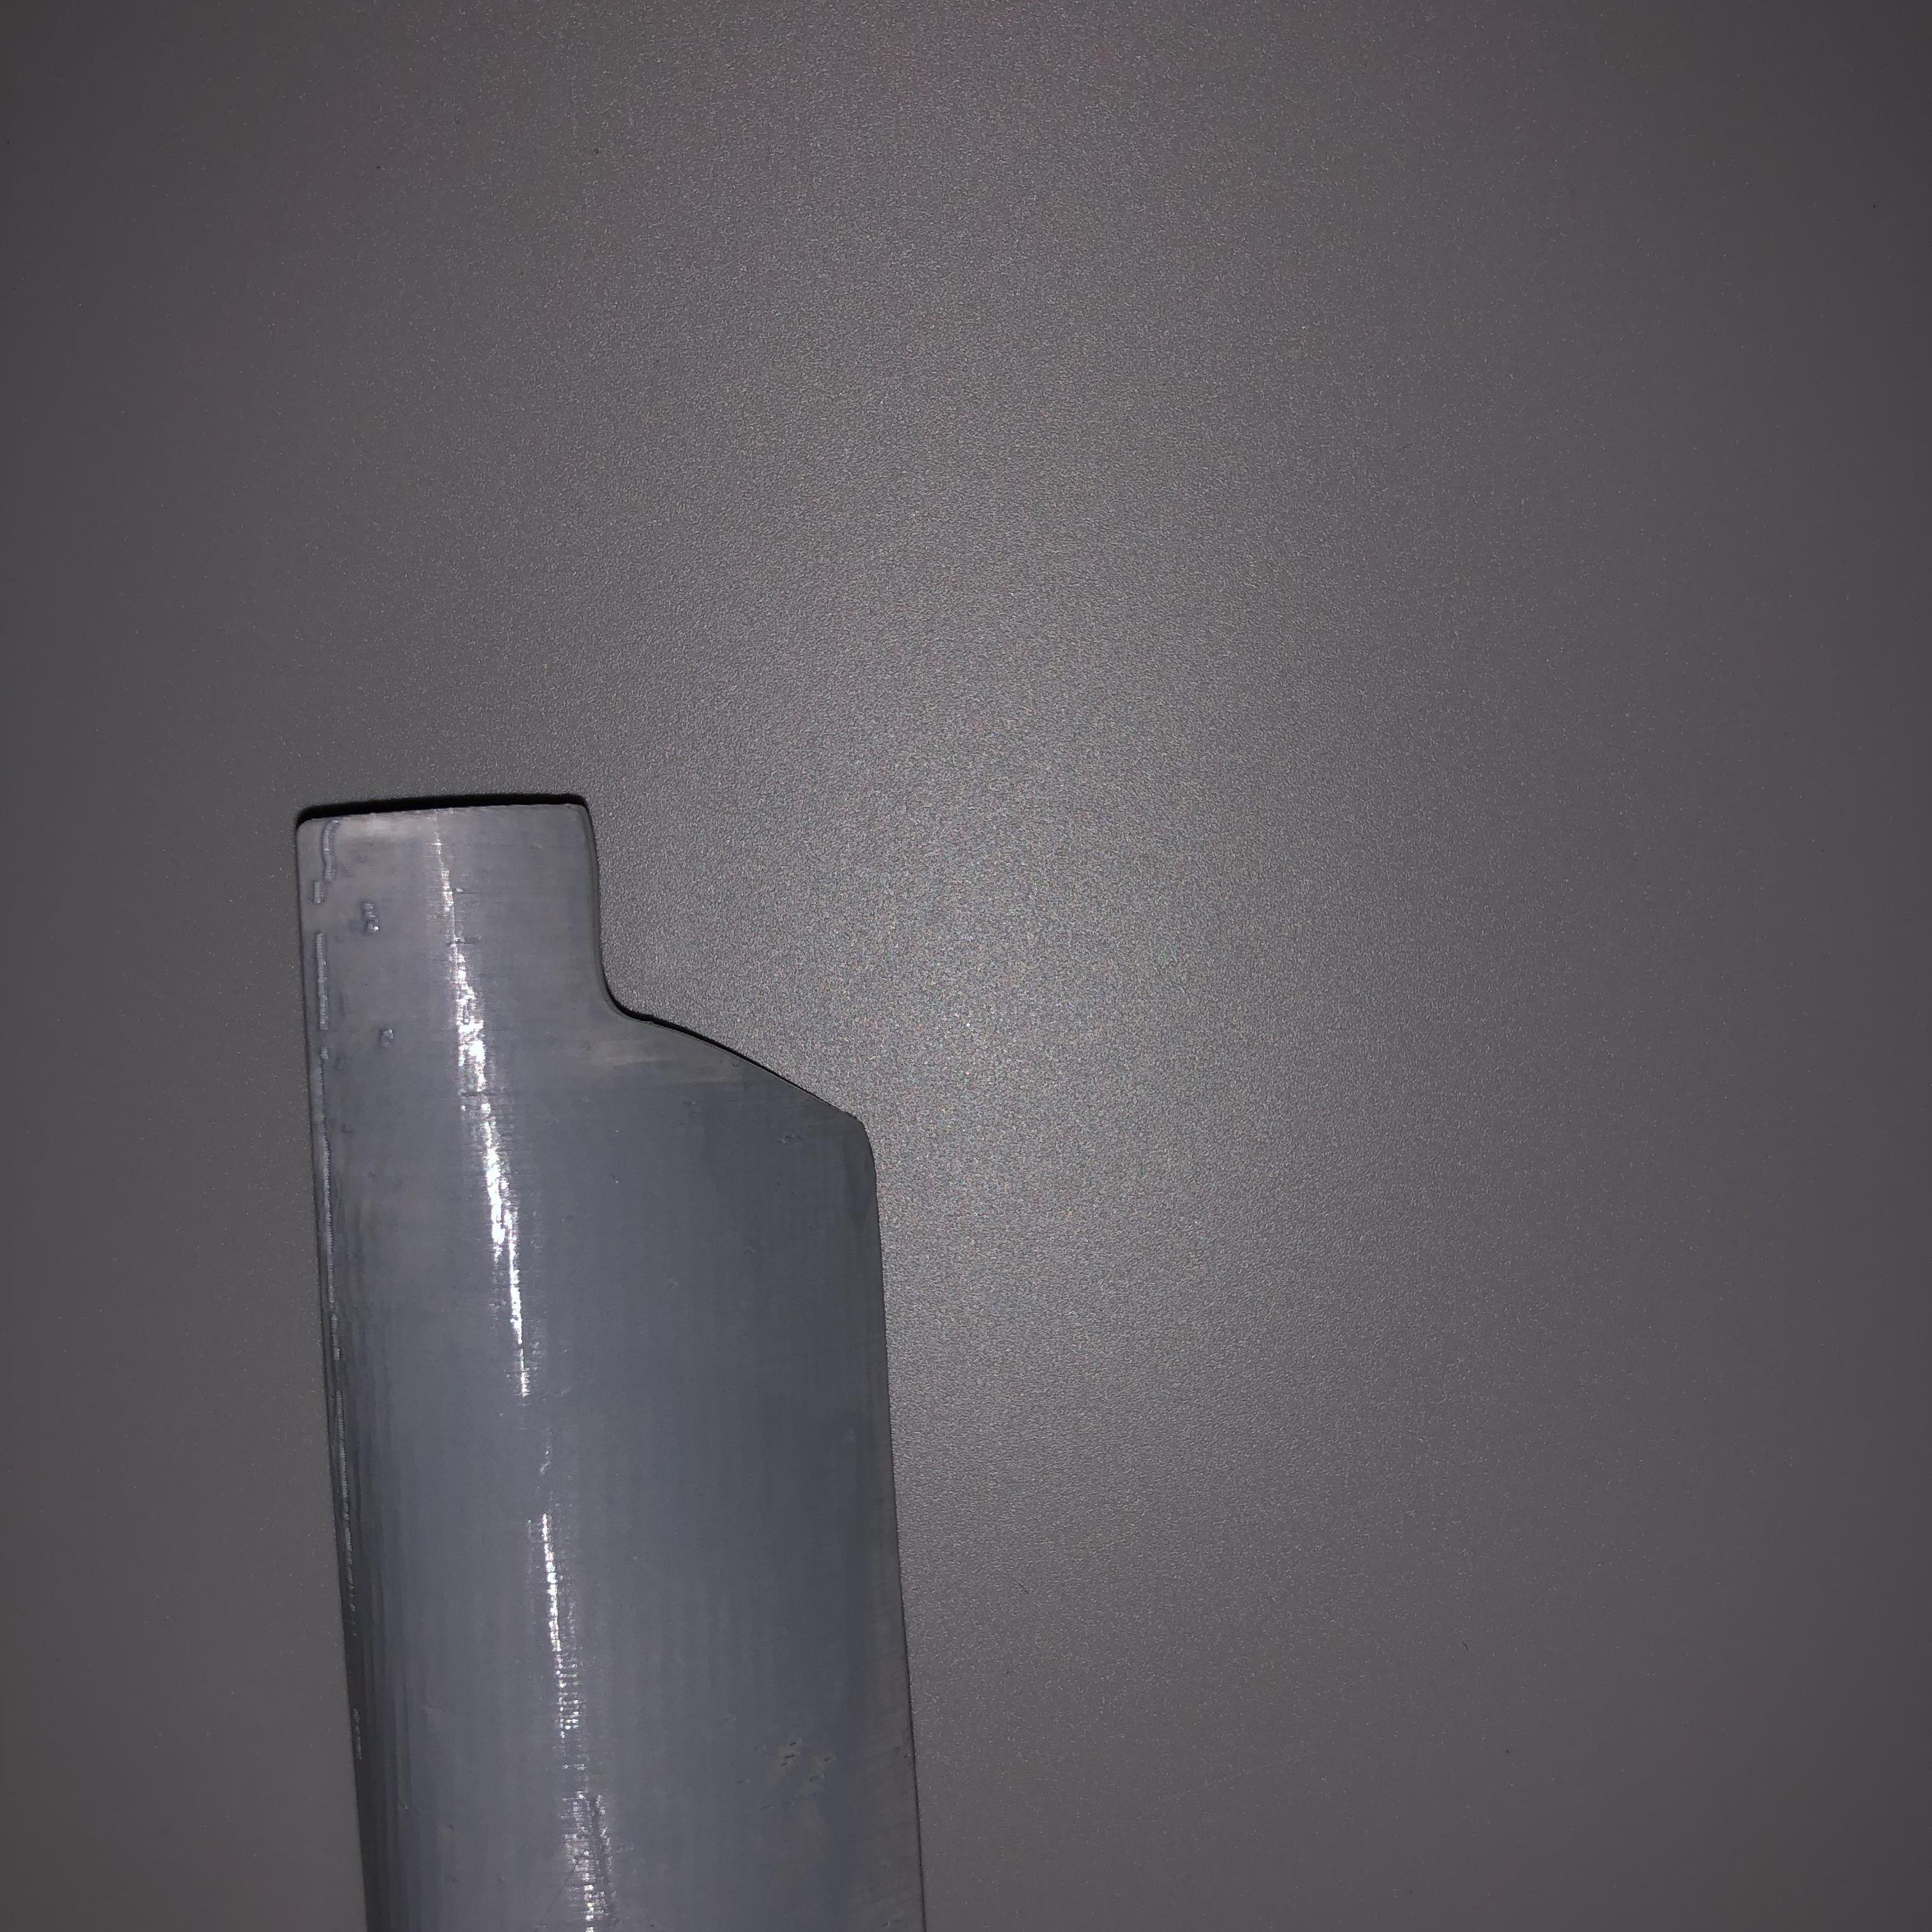fracture: (563, 805, 856, 1143)
